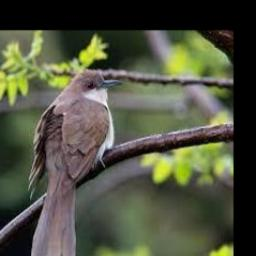Cuckoo: (27, 69, 122, 256)
